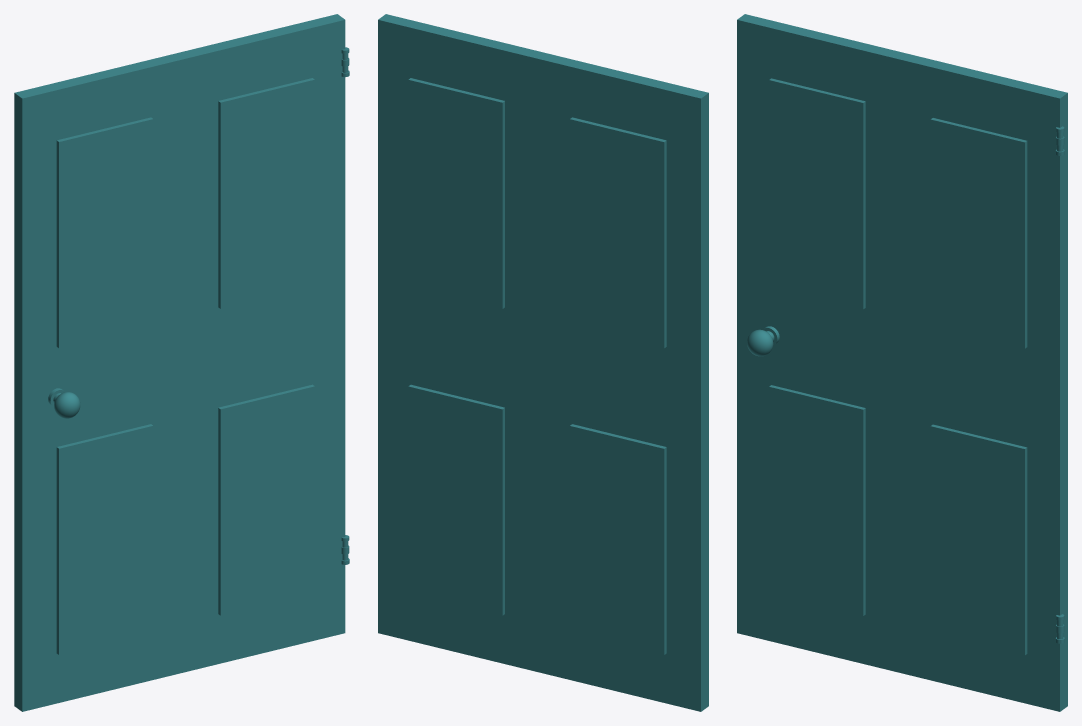
Rendered from Door Low.fbx.
The picture shows the model from 3 angles, left to right: view 1: azimuth 30°, elevation 25°; view 2: azimuth 150°, elevation 25°; view 3: azimuth 330°, elevation 25°; orthographic projection.
Parts seen in each view (by area): view 1: Door_01_low, Door_07_low, Door_09_low, Door_06_low, Door_08_low, Door_12_low; view 2: Door_01_low, Door_04_low, Door_05_low, Door_02_low, Door_03_low; view 3: Door_01_low, Door_08_low, Door_06_low, Door_07_low, Door_09_low, Door_12_low.
Boxes of the visible parts, x1,y1,x2,y2 form: Door_01_low: (14, 14, 345, 711); Door_07_low: (56, 117, 153, 348); Door_09_low: (56, 424, 153, 654); Door_06_low: (218, 78, 314, 308); Door_08_low: (218, 384, 314, 615); Door_12_low: (48, 388, 80, 418); Door_01_low: (378, 14, 708, 711); Door_04_low: (408, 384, 504, 615); Door_05_low: (570, 424, 666, 654); Door_02_low: (408, 78, 504, 308); Door_03_low: (570, 117, 666, 348); Door_01_low: (737, 14, 1067, 711); Door_08_low: (930, 424, 1027, 655); Door_06_low: (930, 118, 1027, 348); Door_07_low: (769, 78, 865, 309); Door_09_low: (769, 385, 865, 615); Door_12_low: (747, 326, 779, 356).
Bounding box in the file's own units: 1.08 × 1.93 × 0.1561.
